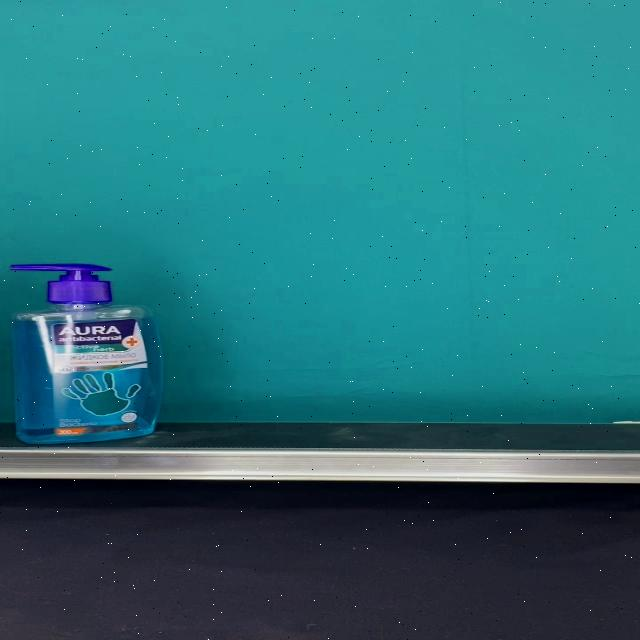Bottle: (10, 263, 165, 444)
Cap: (12, 263, 112, 305)
